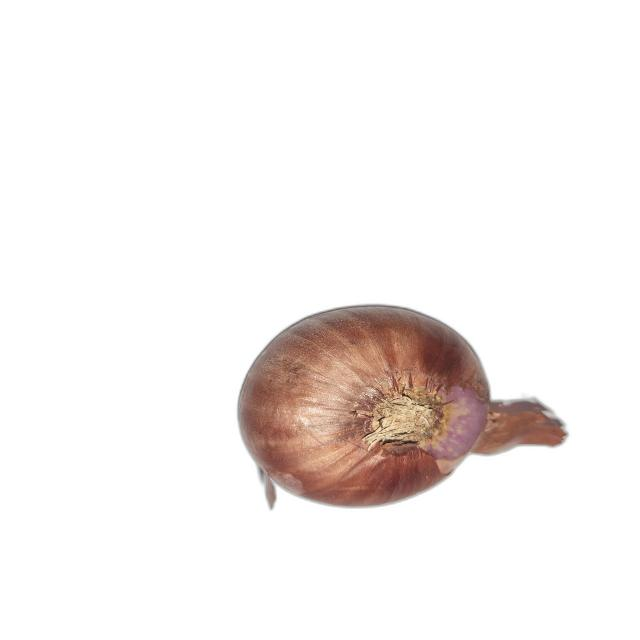onion: (238, 306, 568, 510)
